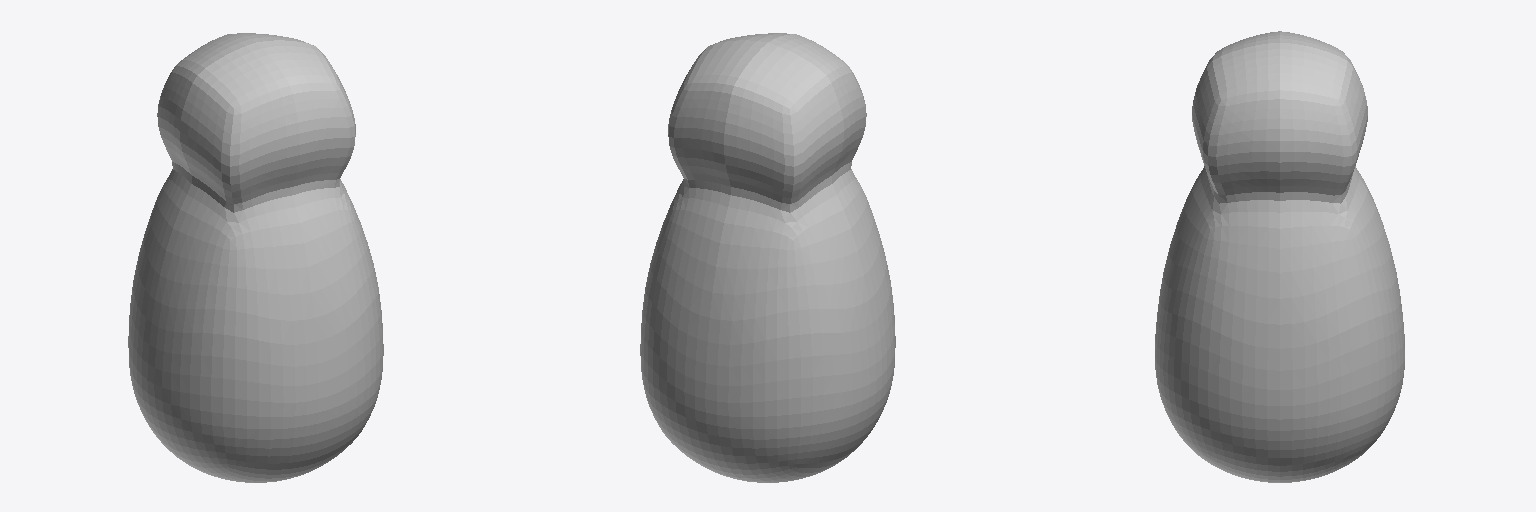
File: matro.obj
3 views of the same model, side by side, from view 1: azimuth 30°, elevation 25°; view 2: azimuth 150°, elevation 25°; view 3: azimuth 270°, elevation 25° (orthographic).
Visible parts, largest first — view 1: Cube_Cube.001; view 2: Cube_Cube.001; view 3: Cube_Cube.001.
Boxes of the visible parts, box(x1,y1,x2,y2) form: Cube_Cube.001: box(128, 33, 383, 482); Cube_Cube.001: box(640, 33, 895, 482); Cube_Cube.001: box(1155, 31, 1404, 482).
Bounding box in the file's own units: 1.04 × 1.96 × 1.04.